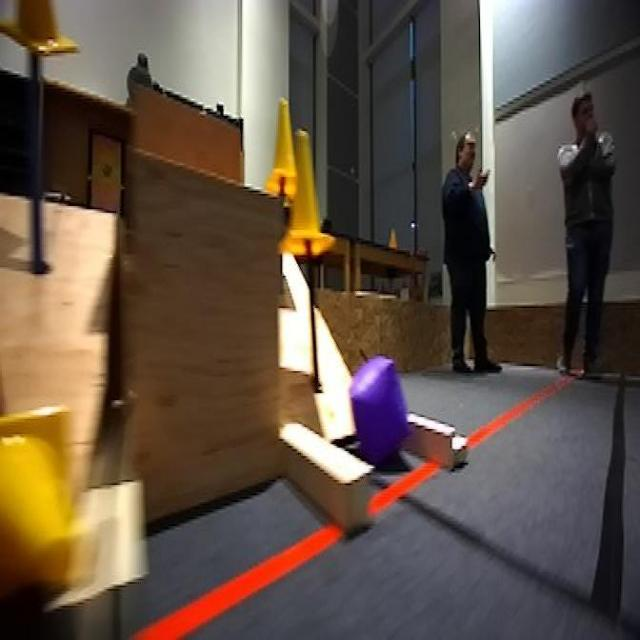frc_cone: (0, 401, 74, 597), (276, 131, 334, 259), (264, 92, 310, 202), (0, 0, 82, 56)
frc_cube: (348, 356, 412, 466)
